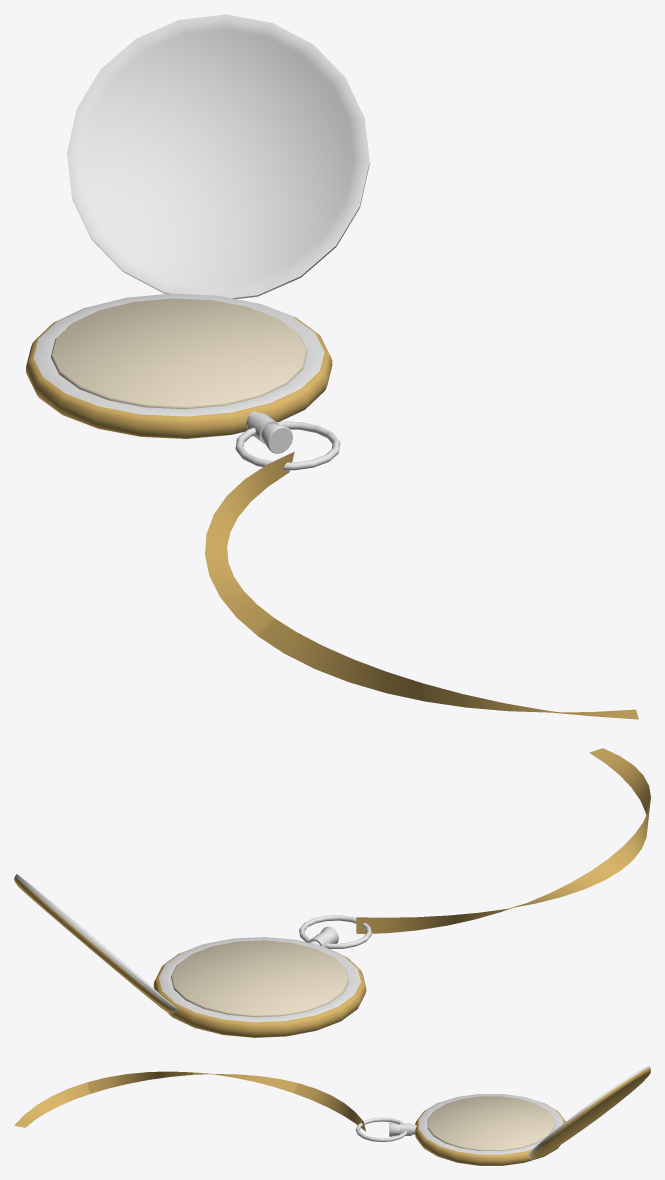
Rendered from PocketWatch.fbx.
3 renders of one model, top to bottom at view 1: azimuth 30°, elevation 25°; view 2: azimuth 150°, elevation 25°; view 3: azimuth 270°, elevation 25°, orthographic. The views are drawn at different scales.
Parts seen in each view (by area): view 1: PocketWatchUVd:polySurface132; view 2: PocketWatchUVd:polySurface132; view 3: PocketWatchUVd:polySurface132.
Part boxes in pixels (x1,y1,x2,y2): PocketWatchUVd:polySurface132: [26, 14, 638, 719]; PocketWatchUVd:polySurface132: [14, 748, 650, 1037]; PocketWatchUVd:polySurface132: [14, 1066, 650, 1165].
Size of the model in its own units: 5.56 by 2.39 by 12.83.
